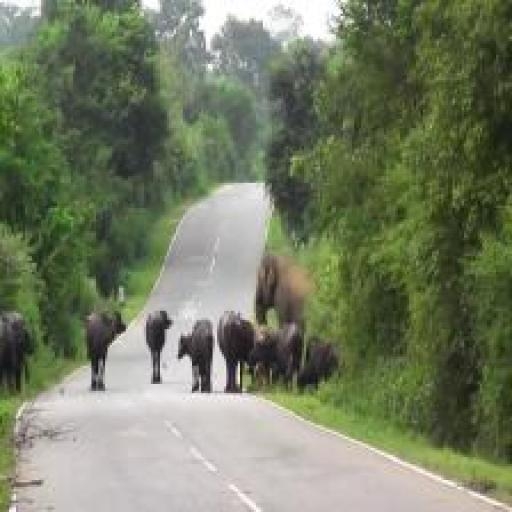Elephant: (254, 244, 319, 324)
